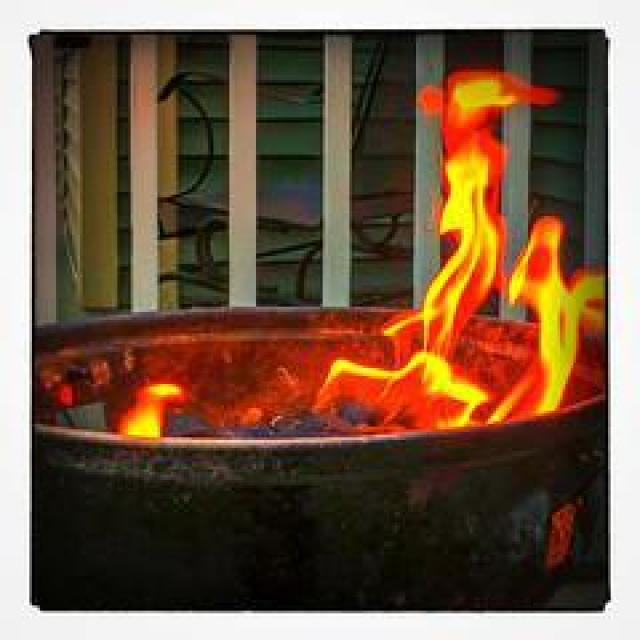fire: (56, 35, 600, 491)
